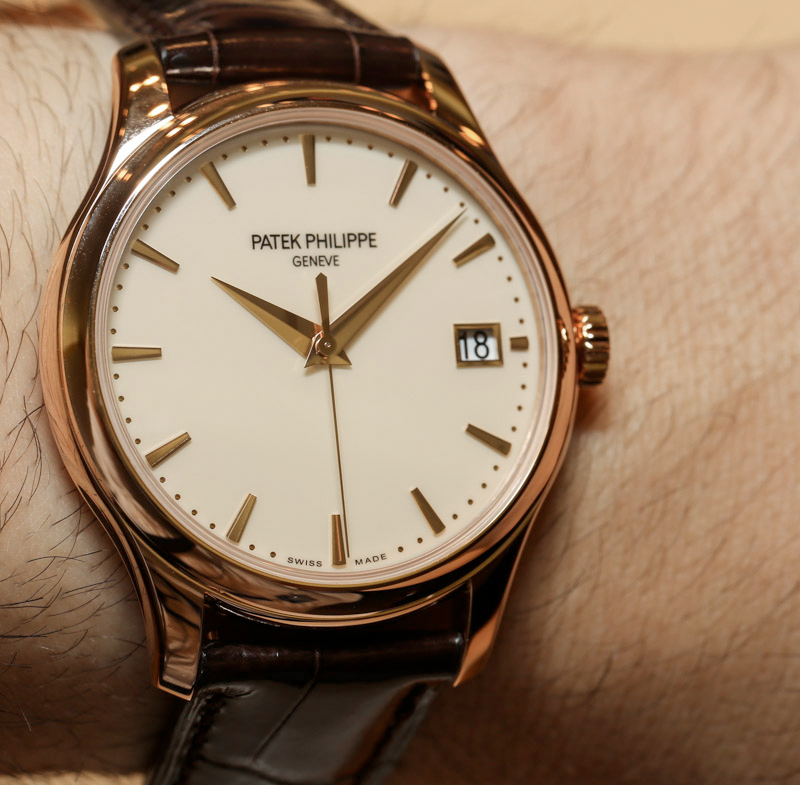clock: (106, 118, 556, 579)
